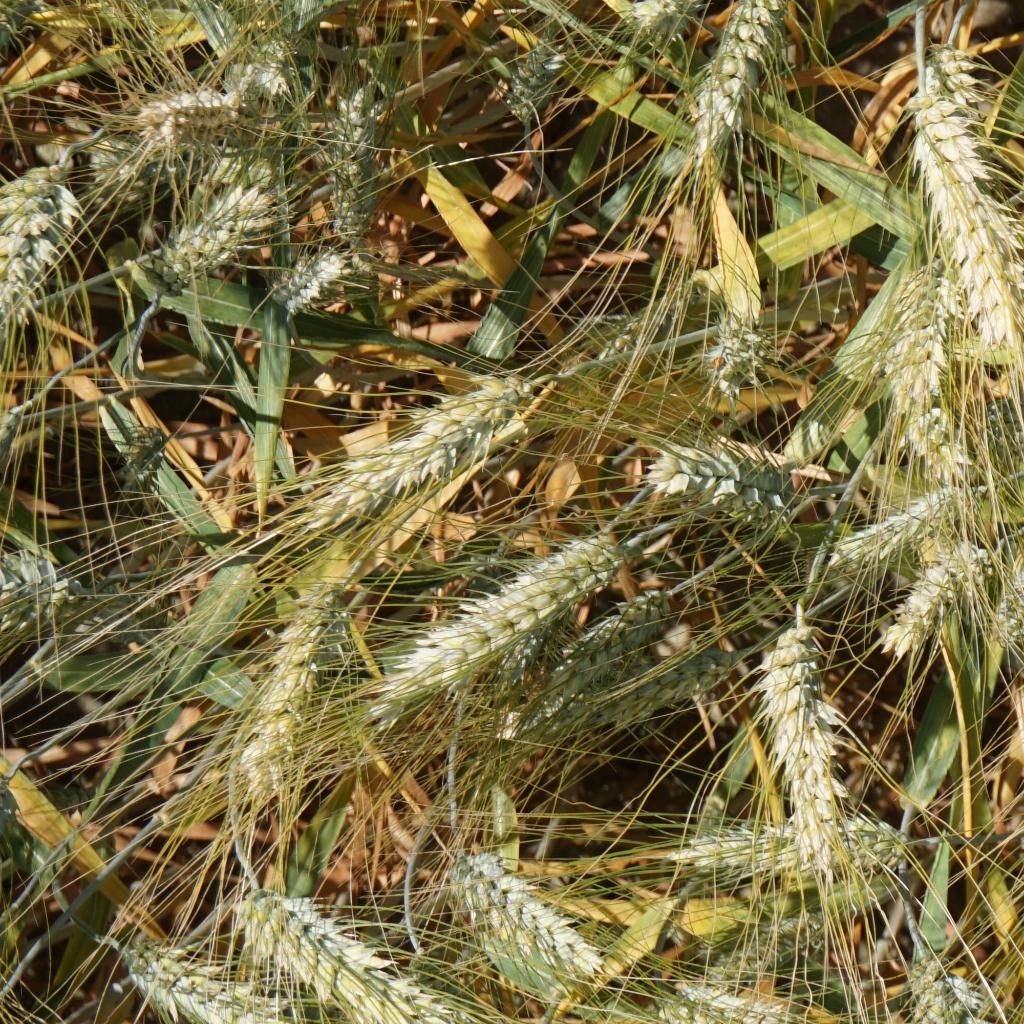0-0: (395, 539, 640, 697), (524, 270, 724, 441), (311, 350, 533, 490), (439, 828, 610, 1002), (236, 880, 451, 1016), (226, 593, 356, 817), (732, 620, 848, 852), (913, 67, 1012, 307), (646, 900, 849, 1011), (523, 582, 679, 710), (687, 0, 803, 170), (632, 433, 804, 542), (673, 801, 911, 870), (82, 921, 262, 1012), (911, 37, 994, 232), (878, 249, 953, 460), (876, 537, 978, 675), (821, 472, 961, 561), (316, 102, 401, 248), (157, 181, 295, 269), (0, 175, 80, 314), (85, 418, 181, 532), (114, 62, 242, 137), (269, 244, 379, 328), (496, 27, 571, 140), (667, 963, 794, 1024), (705, 309, 779, 401), (218, 13, 299, 96), (886, 961, 981, 1024), (0, 532, 49, 620), (986, 553, 1024, 644), (626, 0, 691, 47), (195, 0, 285, 13)
